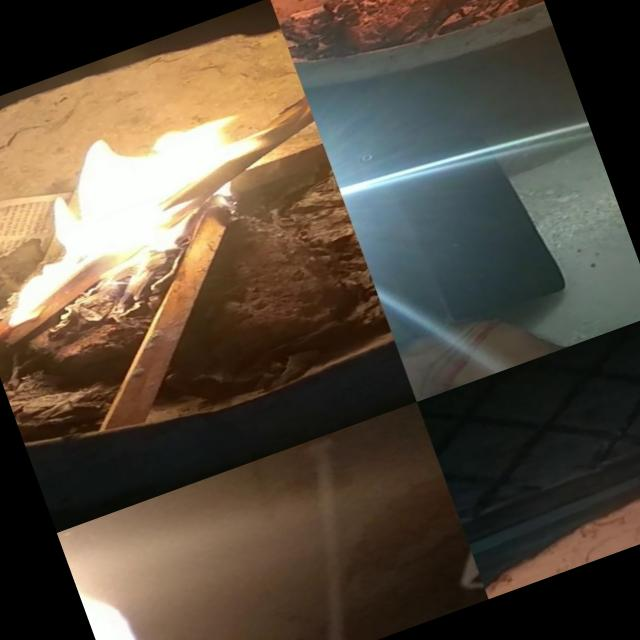fire: (0, 77, 307, 345), (57, 510, 175, 640), (326, 0, 537, 50)
